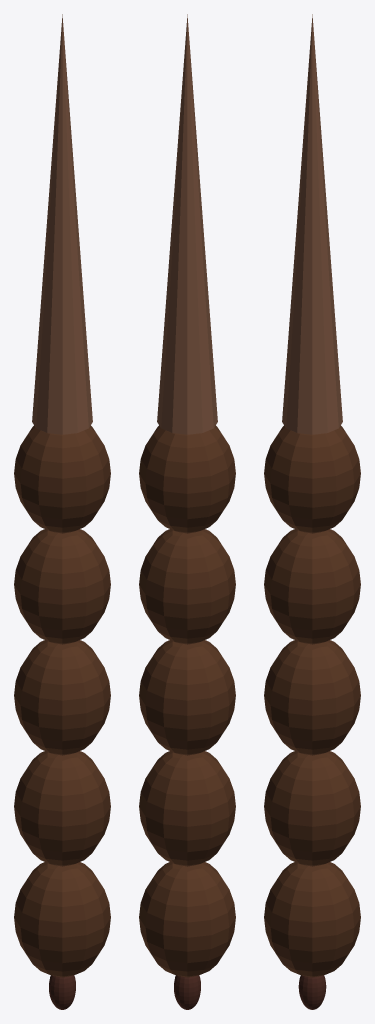
The model's file is Wand 226.glb.
The picture shows the model from 3 angles, left to right: view 1: azimuth 30°, elevation 25°; view 2: azimuth 210°, elevation 25°; view 3: azimuth 270°, elevation 25°; orthographic projection.
Visible parts, largest first — view 1: GeneratedWand; view 2: GeneratedWand; view 3: GeneratedWand.
Part boxes in pixels (box(x1,y1,x2,y2)): GeneratedWand: box(14, 14, 110, 1009); GeneratedWand: box(139, 14, 235, 1009); GeneratedWand: box(264, 14, 360, 1009).
Bounding box in the file's own units: 0.0447 × 0.5086 × 0.0449.
